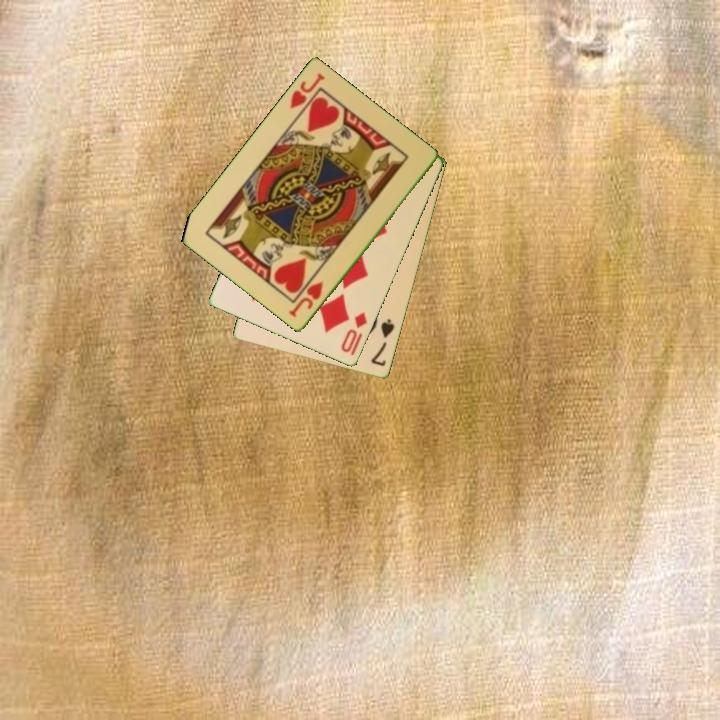10d: (337, 308, 371, 359)
7s: (368, 316, 398, 369)
Jh: (286, 70, 328, 112), (285, 278, 326, 321)
